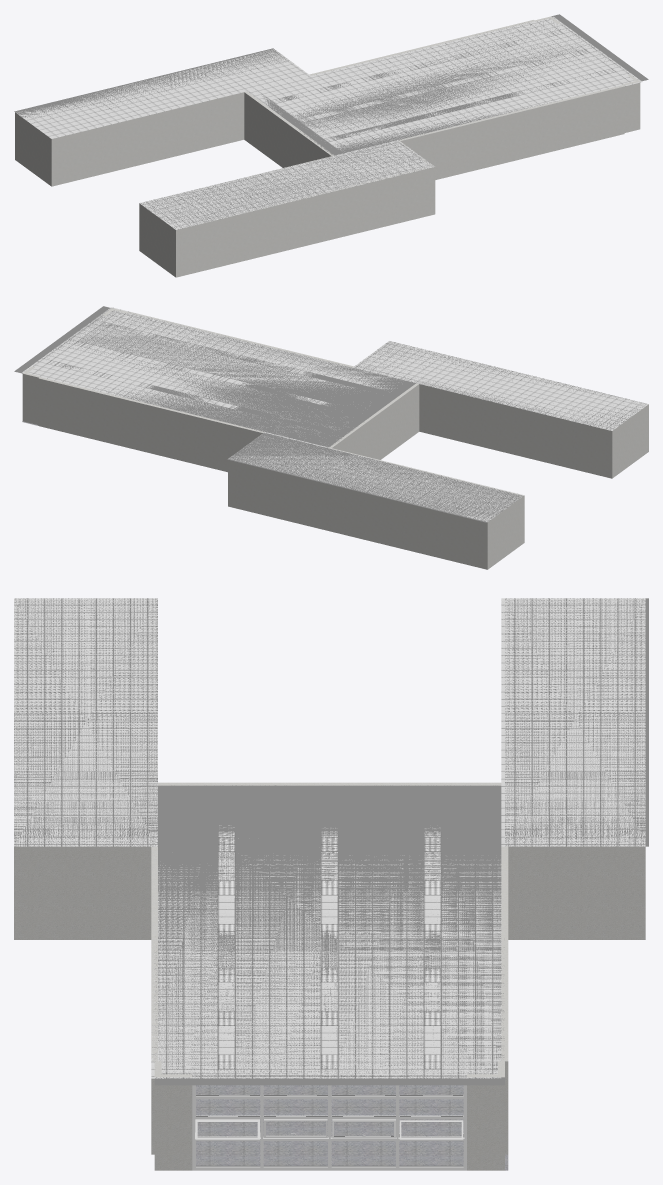
Rendered from reading_room.FBX.
3 renders of one model, top to bottom at view 1: azimuth 30°, elevation 25°; view 2: azimuth 150°, elevation 25°; view 3: azimuth 270°, elevation 25°, orthographic. The views are drawn at different scales.
Parts seen in each view (by area): view 1: Ceiling_01, Wall_03, Wall_02, Out_01, Wall_04, Out_02 (×2), Ceiling_02, Ceiling_003, Wall_01, Light_01, Wall01, Wall_00; view 2: Out_01, Ceiling_01, Wall_02, Out_02 (×2), Wall_03, Wall_00, Ceiling_02, Ceiling_003, Wall_01, Light_01, Wall03, Wall_04; view 3: Out_01, Ceiling_01, Out_02 (×2), Ceiling_003, Ceiling_02, Floor, Wall_02, Wall_03, window_frame_001, Light_01, Wall01, Wall03 (+3 smaller).
Part boxes in pixels (bbox=[...]): Ceiling_01: bbox=[247, 16, 642, 151]; Wall_03: bbox=[139, 141, 435, 277]; Wall_02: bbox=[15, 92, 244, 186]; Out_01: bbox=[262, 14, 648, 155]; Wall_04: bbox=[398, 85, 624, 179]; Out_02 (×2): bbox=[14, 48, 434, 229]; Ceiling_02: bbox=[140, 140, 434, 229]; Ceiling_003: bbox=[16, 49, 310, 138]; Wall_01: bbox=[244, 91, 333, 167]; Light_01: bbox=[271, 30, 615, 141]; Wall01: bbox=[622, 74, 640, 132]; Wall_00: bbox=[309, 20, 534, 75]; Out_01: bbox=[14, 306, 415, 447]; Ceiling_01: bbox=[22, 307, 398, 437]; Wall_02: bbox=[228, 434, 524, 569]; Out_02 (×2): bbox=[227, 341, 646, 522]; Wall_03: bbox=[419, 384, 648, 478]; Wall_00: bbox=[38, 377, 264, 472]; Ceiling_02: bbox=[353, 341, 648, 430]; Ceiling_003: bbox=[228, 432, 523, 521]; Wall_01: bbox=[328, 383, 419, 459]; Light_01: bbox=[47, 322, 388, 420]; Wall03: bbox=[22, 366, 40, 424]; Wall_04: bbox=[128, 311, 353, 367]; Out_01: bbox=[154, 785, 504, 1085]; Ceiling_01: bbox=[151, 825, 501, 1078]; Out_02 (×2): bbox=[14, 598, 648, 846]; Ceiling_003: bbox=[501, 598, 645, 846]; Ceiling_02: bbox=[14, 598, 157, 846]; Floor: bbox=[196, 1085, 508, 1170]; Wall_02: bbox=[501, 598, 645, 939]; Wall_03: bbox=[14, 598, 157, 939]; window_frame_001: bbox=[192, 1085, 466, 1170]; Light_01: bbox=[218, 837, 441, 1069]; Wall01: bbox=[154, 1061, 192, 1170]; Wall03: bbox=[467, 1061, 504, 1170].
Bounding box in the file's own units: 33563 × 3000 × 18500.
